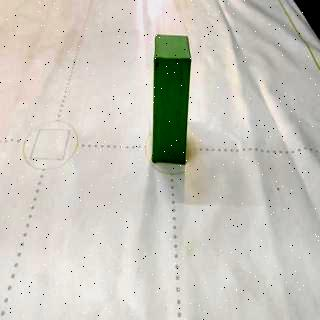greenbox: (150, 31, 193, 166)
